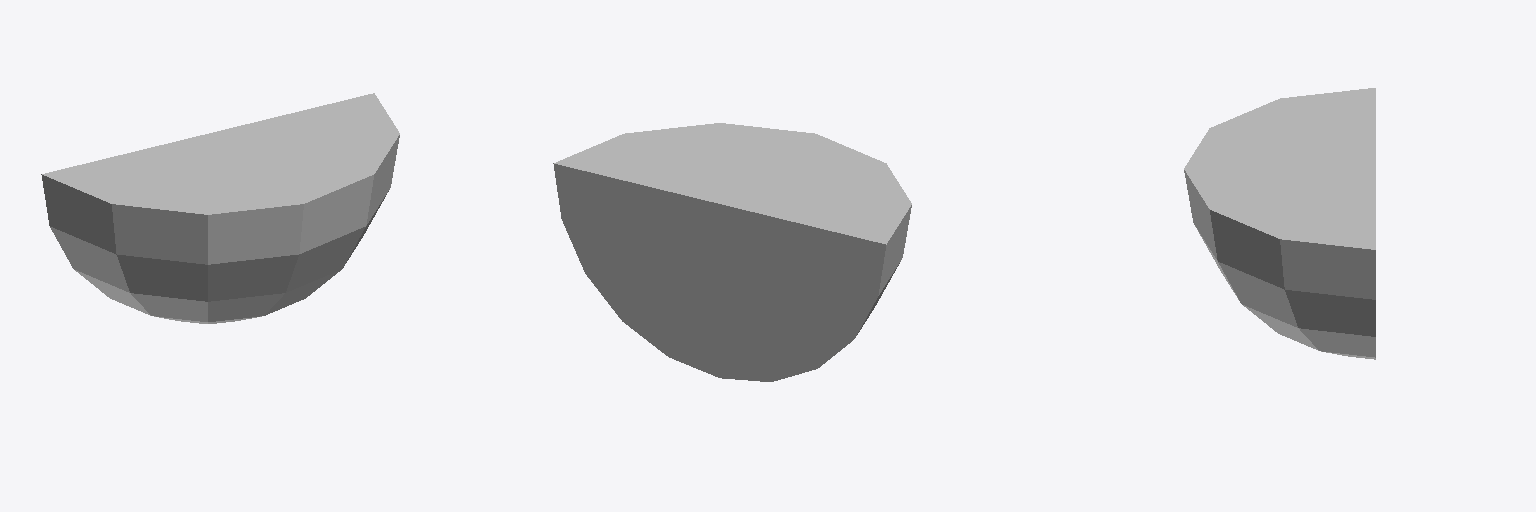
File: Naranja-1_4AA.obj
3 renders of one model, left to right at view 1: azimuth 30°, elevation 25°; view 2: azimuth 150°, elevation 25°; view 3: azimuth 270°, elevation 25°, orthographic.
Parts seen in each view (by area): view 1: Naranja-1_4AA_Sphere.007; view 2: Naranja-1_4AA_Sphere.007; view 3: Naranja-1_4AA_Sphere.007.
Part boxes in pixels (left/top/right/bottom): Naranja-1_4AA_Sphere.007: left=41, top=93, right=399, bottom=323; Naranja-1_4AA_Sphere.007: left=553, top=123, right=911, bottom=381; Naranja-1_4AA_Sphere.007: left=1184, top=88, right=1375, bottom=359.
Size of the model in its own units: 2 by 1 by 1.